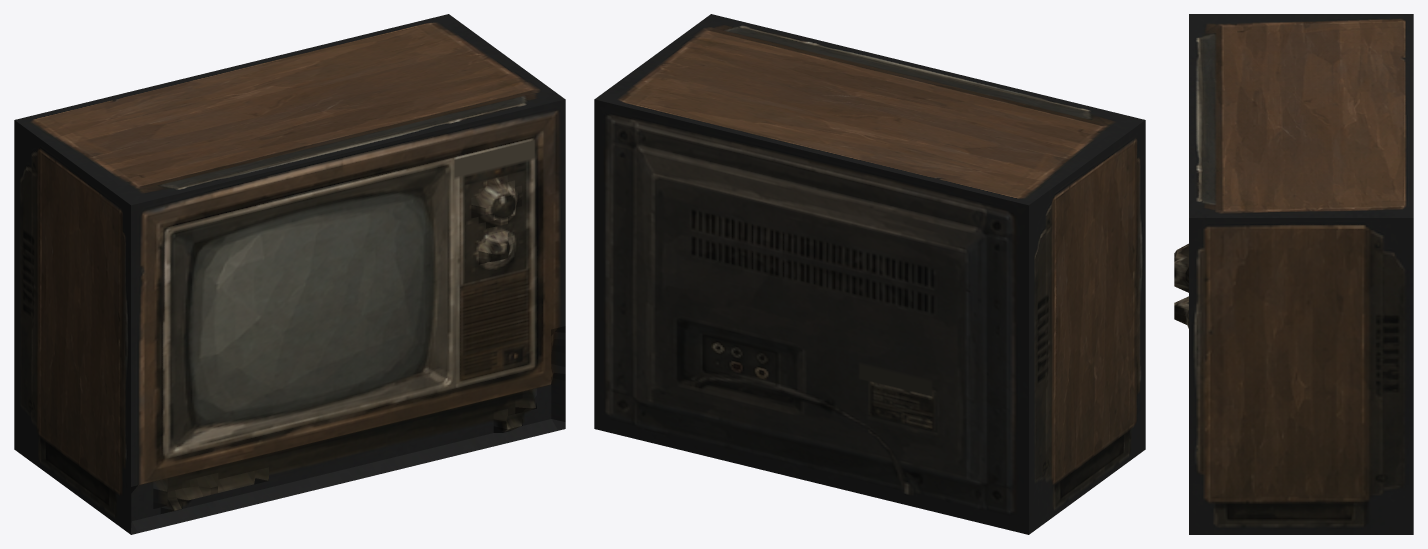
Rendered from bench_b_tv.glb.
The picture shows the model from 3 angles, left to right: view 1: azimuth 30°, elevation 25°; view 2: azimuth 150°, elevation 25°; view 3: azimuth 270°, elevation 25°; orthographic projection. The views are drawn at different scales.
Parts seen in each view (by area): view 1: bench_b_tv_front, bench_b_tv_top, bench_b_tv_left; view 2: bench_b_tv_back, bench_b_tv_top, bench_b_tv_left; view 3: bench_b_tv_right, bench_b_tv_top, bench_b_tv_front.
Part boxes in pixels (box(x1,y1,x2,y2)): bench_b_tv_front: box(131, 99, 565, 534); bench_b_tv_top: box(15, 14, 564, 205); bench_b_tv_left: box(14, 120, 130, 534); bench_b_tv_back: box(594, 99, 1028, 534); bench_b_tv_top: box(595, 14, 1144, 205); bench_b_tv_left: box(1029, 120, 1145, 534); bench_b_tv_right: box(1189, 218, 1413, 534); bench_b_tv_top: box(1189, 14, 1413, 217); bench_b_tv_front: box(1174, 243, 1188, 328).
Size of the model in its own units: 0.662 by 0.48 by 0.3281.
1 material, 1 textured.
